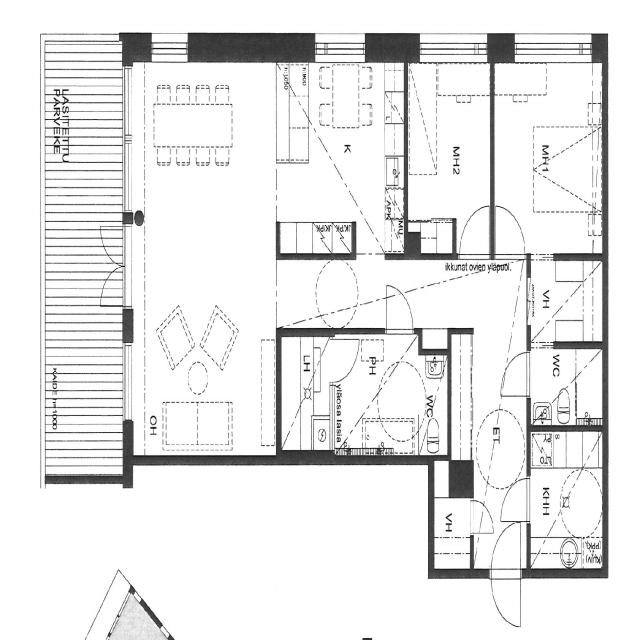door: (489, 517, 525, 627), (384, 286, 416, 356), (93, 219, 127, 281), (491, 202, 527, 260), (93, 260, 129, 318), (458, 201, 493, 256), (324, 333, 362, 383), (500, 477, 533, 526), (500, 350, 531, 400), (468, 498, 495, 538)
window: (116, 53, 138, 223), (509, 33, 595, 61), (118, 334, 137, 440), (417, 34, 489, 60), (310, 34, 370, 62), (147, 35, 193, 67), (162, 339, 186, 373)
zone: (142, 55, 278, 389), (278, 56, 398, 250), (494, 52, 602, 257), (278, 331, 444, 462), (406, 52, 494, 253), (528, 428, 605, 570), (525, 256, 604, 344), (528, 344, 604, 425), (431, 465, 472, 572)
